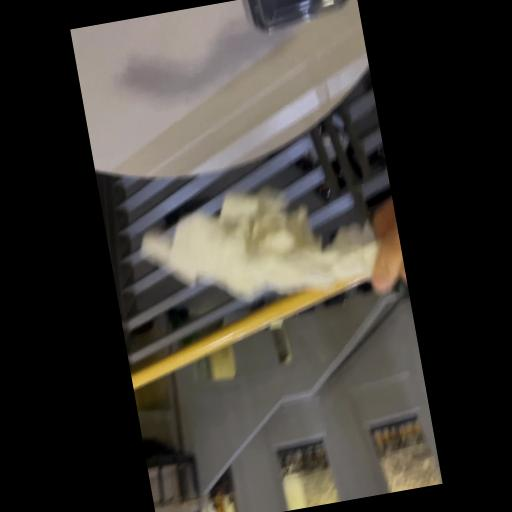napkin: (132, 167, 388, 321), (206, 340, 238, 382)
